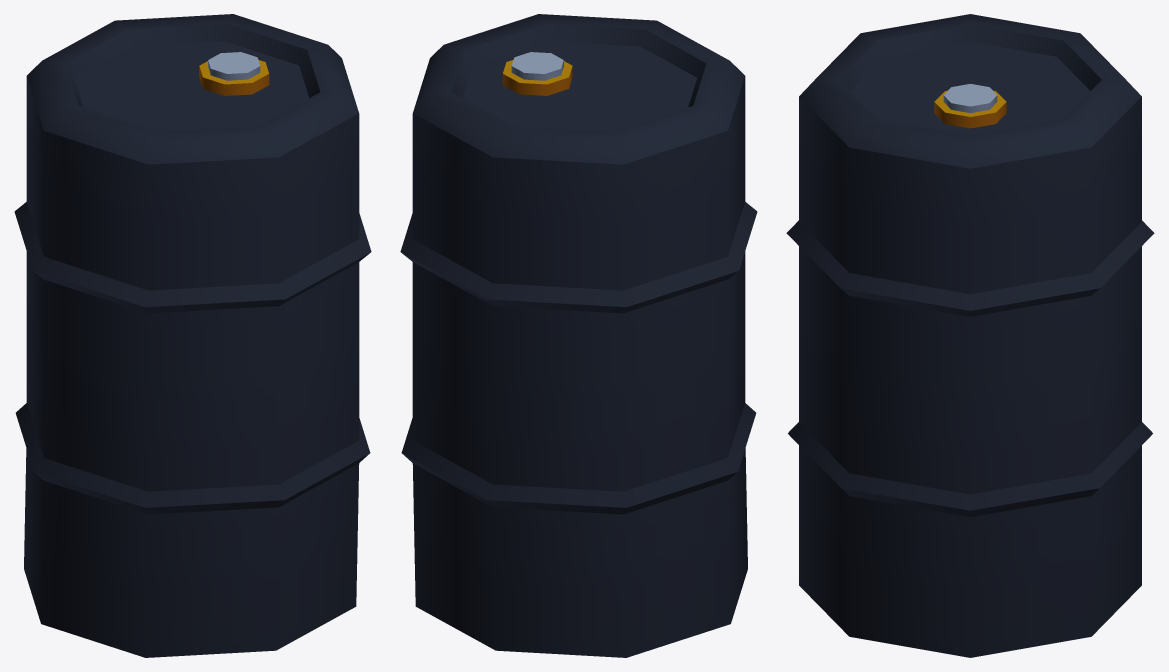
File: Barrel 03.FBX
3 views of the same model, side by side, from view 1: azimuth 30°, elevation 25°; view 2: azimuth 150°, elevation 25°; view 3: azimuth 270°, elevation 25° (orthographic).
Parts seen in each view (by area): view 1: Barrel 03; view 2: Barrel 03; view 3: Barrel 03.
Part boxes in pixels (bbox=[...]): Barrel 03: bbox=[14, 14, 371, 657]; Barrel 03: bbox=[400, 14, 757, 657]; Barrel 03: bbox=[786, 14, 1154, 657].
Size of the model in its own units: 76.86 by 118 by 76.86.
1 material, 1 textured.
